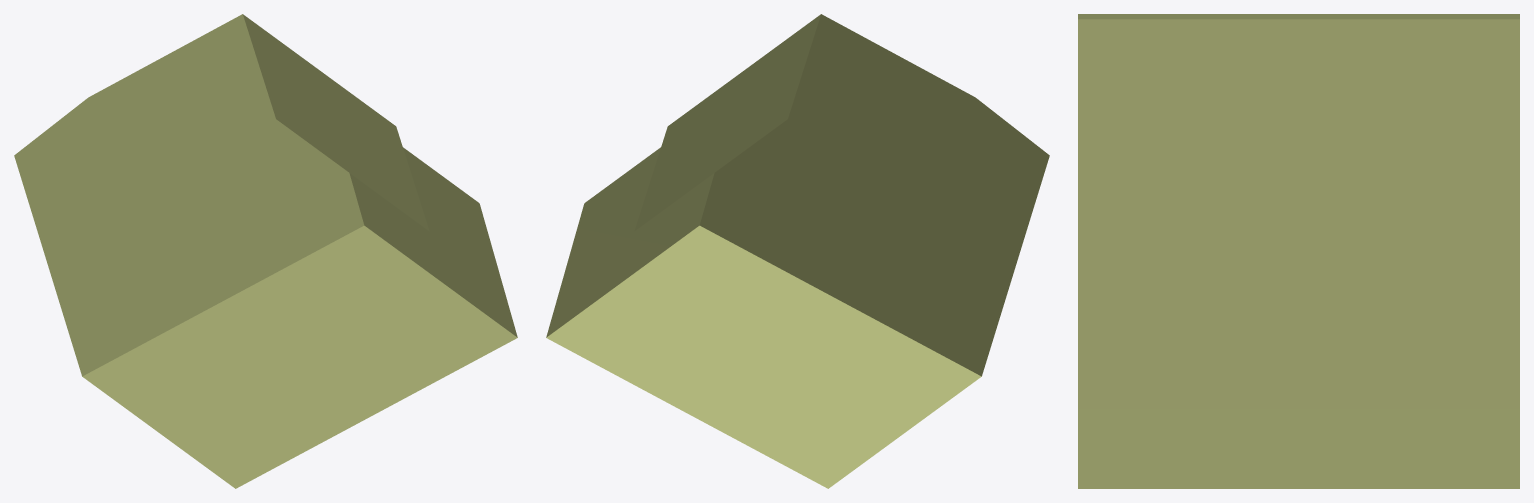
3 renders of one model, left to right at view 1: azimuth 30°, elevation 25°; view 2: azimuth 150°, elevation 25°; view 3: azimuth 270°, elevation 25°, orthographic. The views are drawn at different scales.
Parts seen in each view (by area): view 1: 0_1_3_2_2_1_2_3_1_1_2; view 2: 0_1_3_2_2_1_2_3_1_1_2; view 3: 0_1_3_2_2_1_2_3_1_1_2.
Boxes of the visible parts, bbox=[...] form: 0_1_3_2_2_1_2_3_1_1_2: bbox=[14, 14, 517, 488]; 0_1_3_2_2_1_2_3_1_1_2: bbox=[546, 14, 1049, 488]; 0_1_3_2_2_1_2_3_1_1_2: bbox=[1078, 14, 1519, 488].
Size of the model in its own units: 11.85 by 10.46 by 9.
